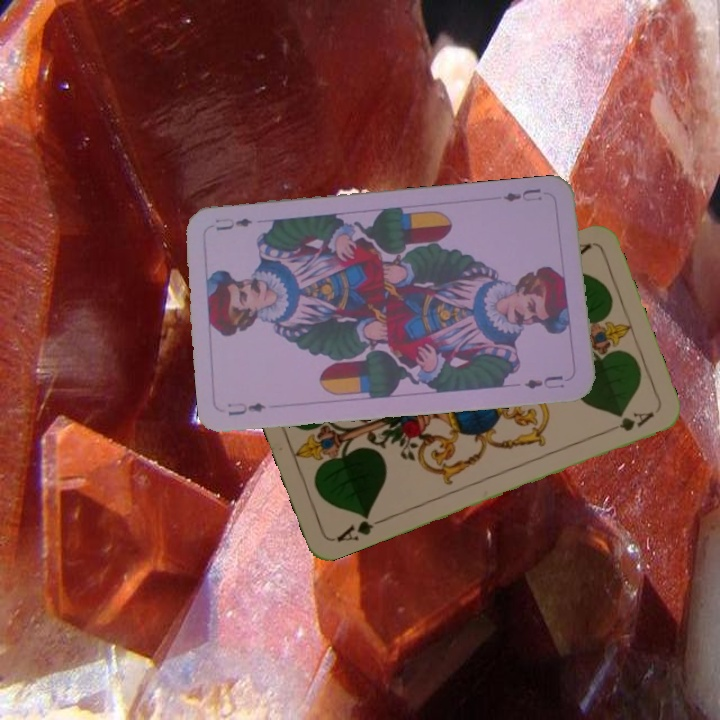EU: (499, 184, 544, 205), (224, 398, 268, 419)
GA: (332, 509, 387, 545)
